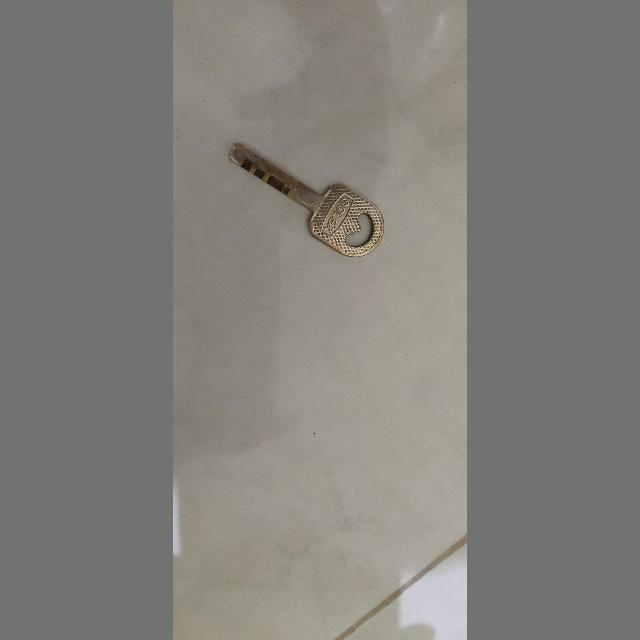Keys: (222, 123, 398, 265)
